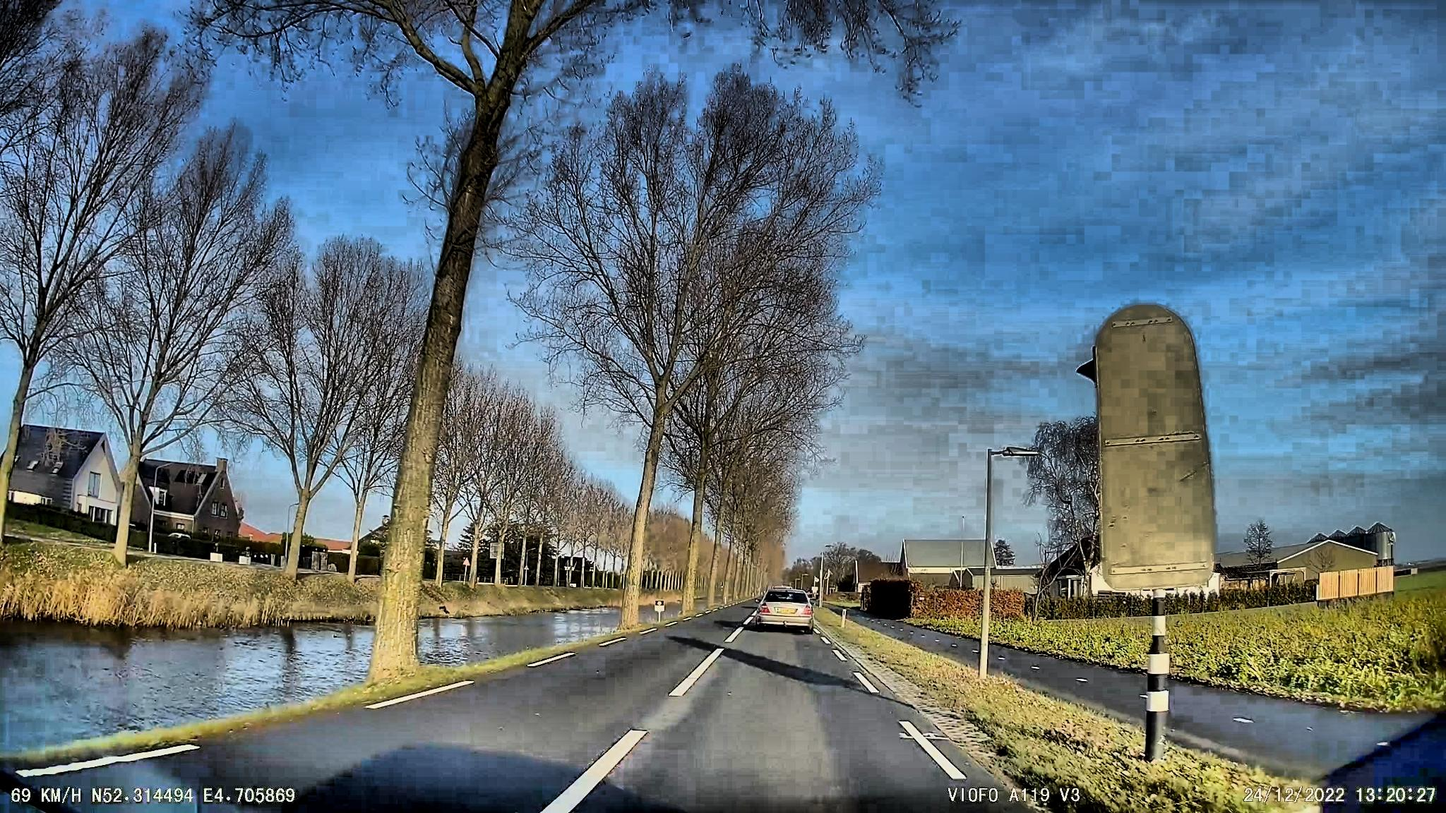Roads: (0, 608, 1105, 813)
